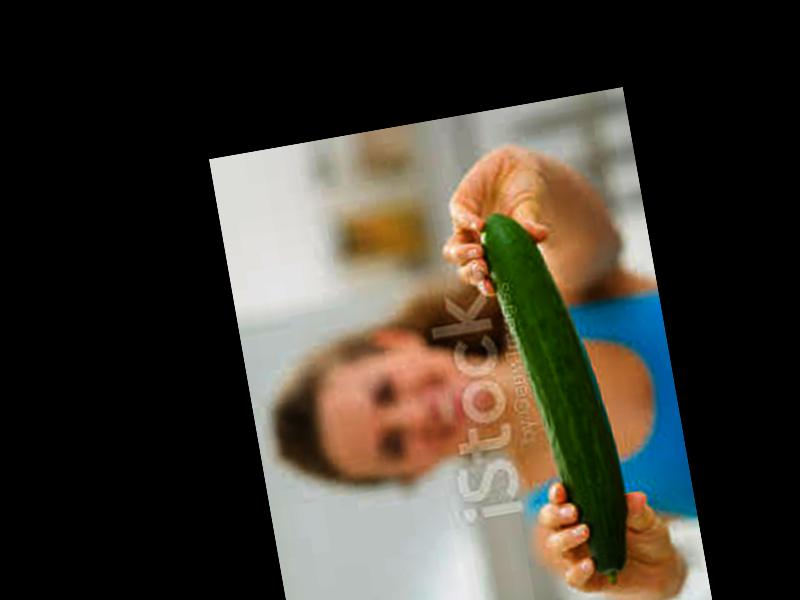Cucumber: (481, 198, 640, 594)
